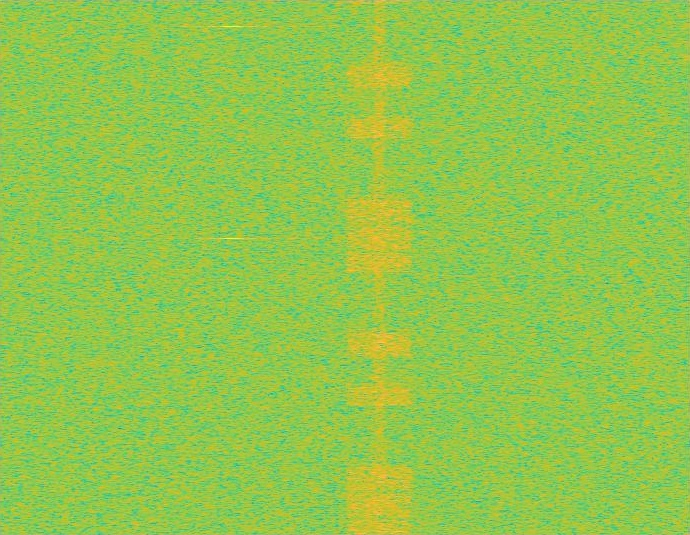DSSS: (372, 0, 387, 534)
LTE: (345, 0, 414, 534)
Radar: (225, 0, 239, 534)
